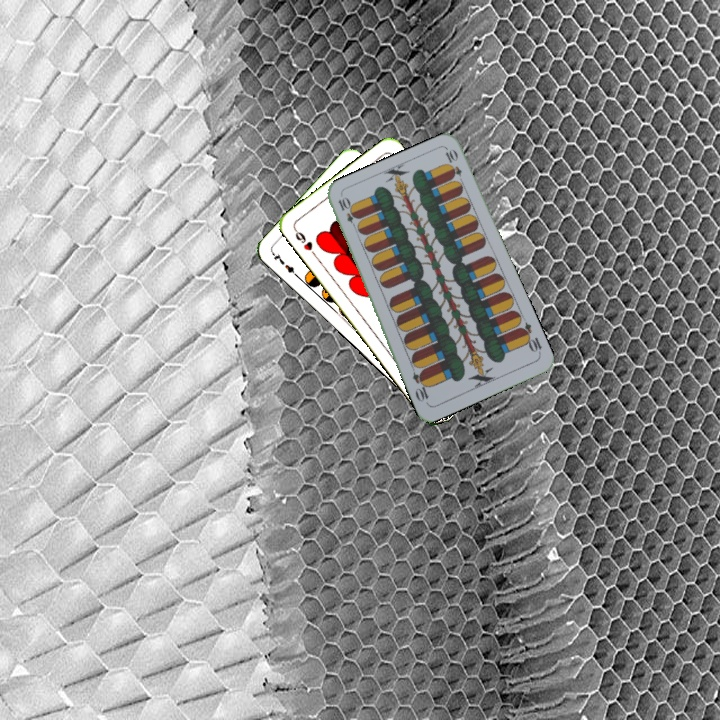E10: (515, 319, 544, 357), (334, 193, 360, 232)
E7: (269, 249, 302, 281)
H9: (290, 225, 319, 260)
